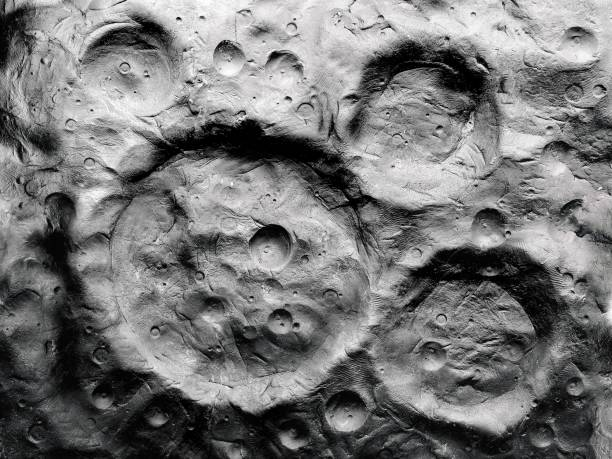crater: (84, 113, 366, 403), (373, 241, 583, 437), (346, 33, 500, 185), (79, 10, 183, 115), (248, 225, 293, 272), (326, 393, 368, 433)
